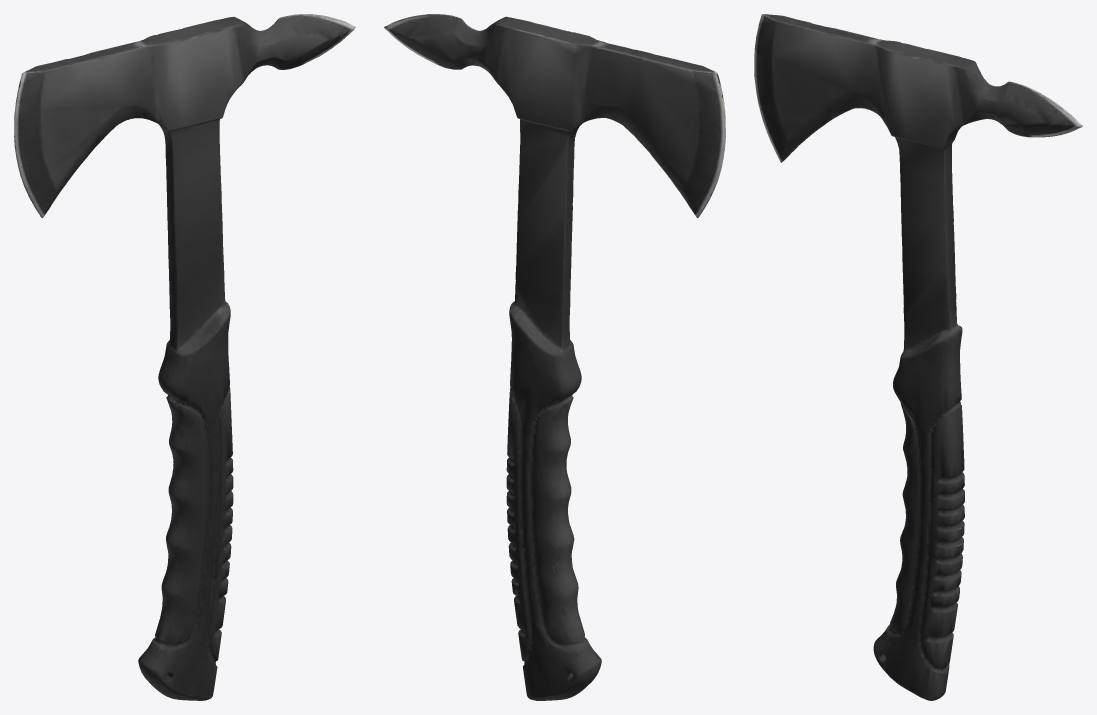
Rendered from hawk.glb.
The picture shows the model from 3 angles, left to right: view 1: azimuth 30°, elevation 25°; view 2: azimuth 150°, elevation 25°; view 3: azimuth 330°, elevation 25°; orthographic projection. The views are drawn at different scales.
Visible parts, largest first — view 1: Mesh_0; view 2: Mesh_0; view 3: Mesh_0.
Boxes of the visible parts, x1,y1,x2,y2 form: Mesh_0: (14, 14, 355, 700); Mesh_0: (384, 14, 725, 700); Mesh_0: (754, 14, 1082, 700).
Bounding box in the file's own units: 1.02 × 1.91 × 0.1148.
Materials: 1 (1 with a texture image).
